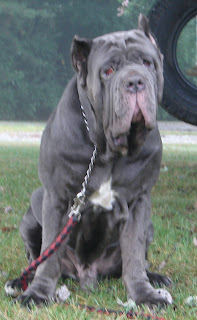neapolitan_mastiff: (4, 13, 173, 309)
